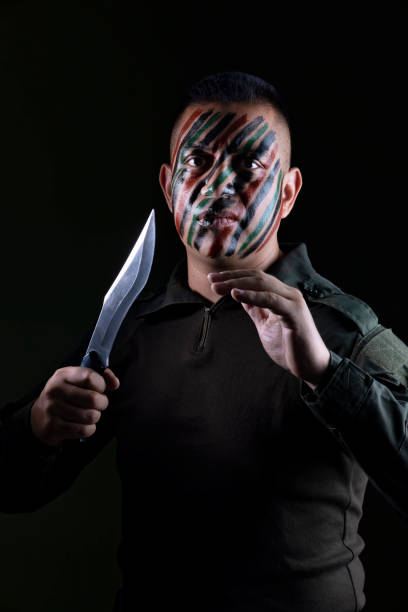knife: (82, 209, 159, 374)
